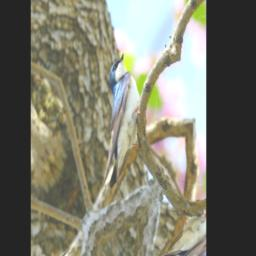Swallow: (70, 49, 163, 206)
